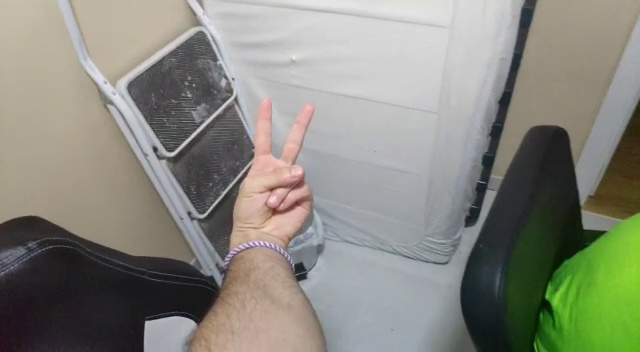Peace: (228, 95, 319, 240)
